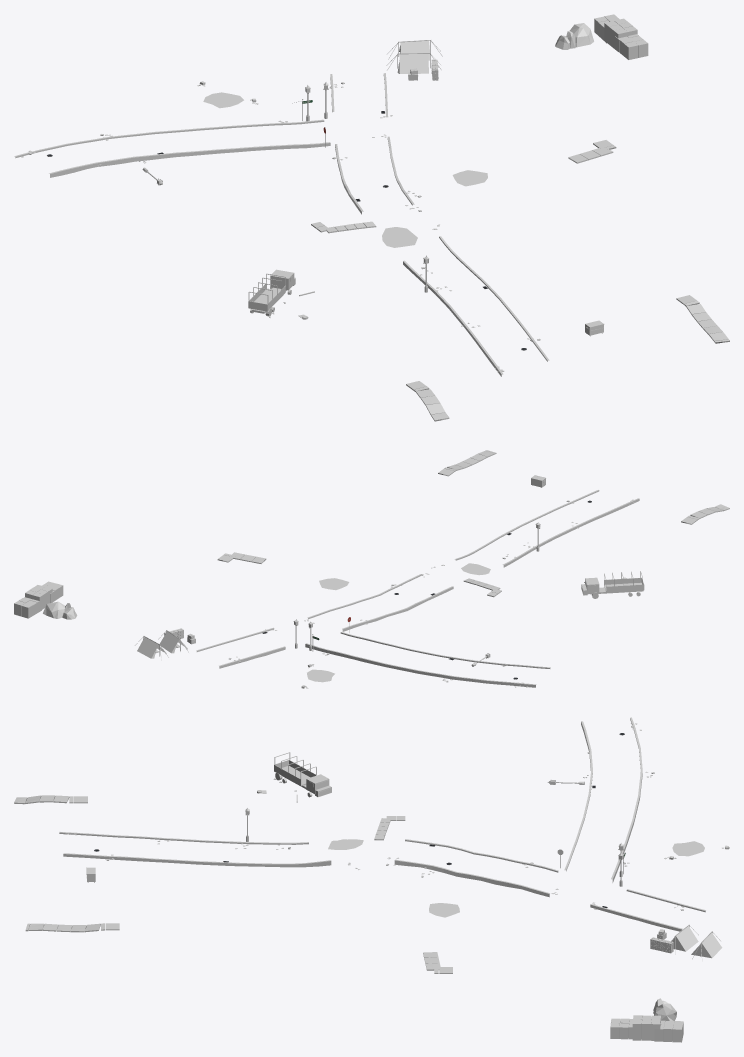
The model's file is outdoor_10.glb.
3 views of the same model, one above another, from view 1: azimuth 30°, elevation 25°; view 2: azimuth 150°, elevation 25°; view 3: azimuth 270°, elevation 25° (orthographic). The views are drawn at different scales.
Visible parts, largest first — view 1: gas_station_town; view 2: gas_station_town; view 3: gas_station_town.
Boxes of the visible parts, box(x1,y1,x2,y2) form: gas_station_town: box(14, 14, 729, 421); gas_station_town: box(14, 450, 729, 688); gas_station_town: box(14, 717, 729, 1042).
Size of the model in its own units: 84.57 by 6.44 by 90.23.
Materials: 2 (1 with a texture image).
